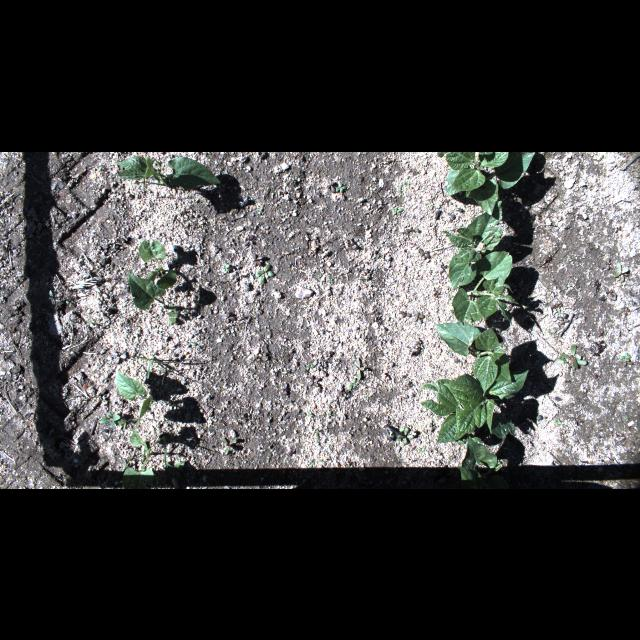crop: (419, 369, 528, 445), (434, 322, 512, 396), (446, 152, 536, 214), (442, 200, 503, 290), (451, 250, 515, 326), (115, 155, 221, 189), (458, 436, 510, 488), (115, 370, 153, 426), (139, 239, 177, 289), (124, 428, 154, 488), (128, 270, 166, 310)
weed: (132, 349, 182, 378), (142, 434, 168, 468), (559, 344, 587, 370), (152, 357, 168, 385), (456, 433, 482, 449), (164, 459, 184, 479), (254, 262, 274, 282), (511, 296, 531, 316), (99, 411, 121, 429), (220, 436, 238, 456), (524, 405, 544, 423), (613, 261, 631, 281), (396, 427, 414, 445), (167, 311, 189, 325), (352, 358, 364, 380), (112, 348, 128, 364), (412, 310, 426, 324), (252, 252, 264, 266), (308, 374, 320, 388), (417, 246, 431, 258), (556, 313, 570, 325), (220, 313, 236, 323), (116, 419, 128, 431), (243, 234, 255, 246), (122, 453, 132, 467), (325, 178, 335, 192), (390, 205, 404, 215), (618, 358, 634, 366), (100, 372, 112, 382), (348, 378, 358, 390), (334, 182, 346, 192), (620, 352, 632, 362), (49, 289, 56, 305), (162, 302, 176, 310), (280, 382, 288, 396), (405, 225, 421, 232), (223, 262, 233, 272), (432, 446, 442, 456), (546, 328, 556, 338), (604, 287, 614, 297), (399, 309, 411, 317), (604, 257, 612, 269), (85, 318, 95, 327), (556, 356, 566, 364), (620, 306, 630, 314), (596, 340, 606, 348), (554, 418, 562, 426), (545, 254, 553, 262), (402, 180, 410, 188), (191, 342, 201, 348), (596, 329, 604, 336), (308, 459, 314, 468), (64, 300, 72, 306), (306, 364, 314, 370), (326, 410, 332, 418), (598, 153, 604, 161), (592, 278, 598, 286), (287, 450, 295, 456), (437, 152, 448, 156), (308, 412, 314, 418), (562, 284, 568, 290), (364, 394, 371, 398), (266, 456, 270, 462), (318, 272, 322, 278), (328, 278, 334, 282), (594, 373, 598, 379), (626, 414, 628, 420)
